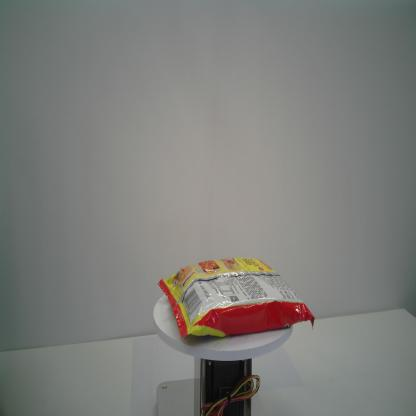Instant Noodles: (158, 256, 316, 341)
